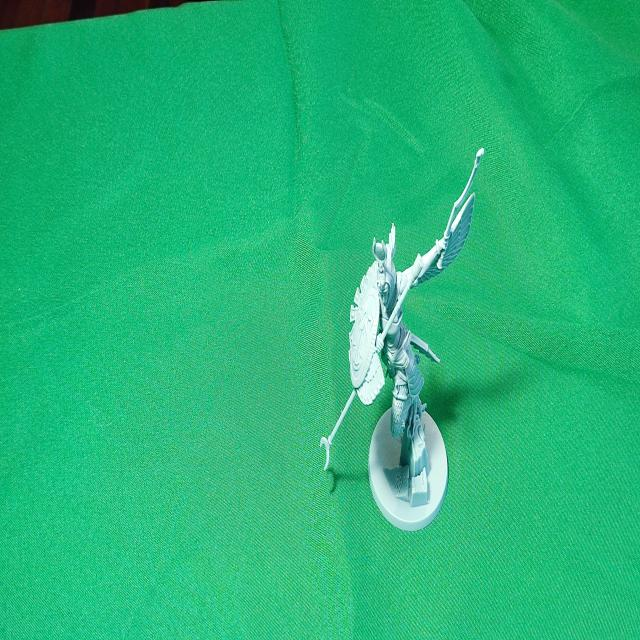isis: (305, 102, 500, 552)
